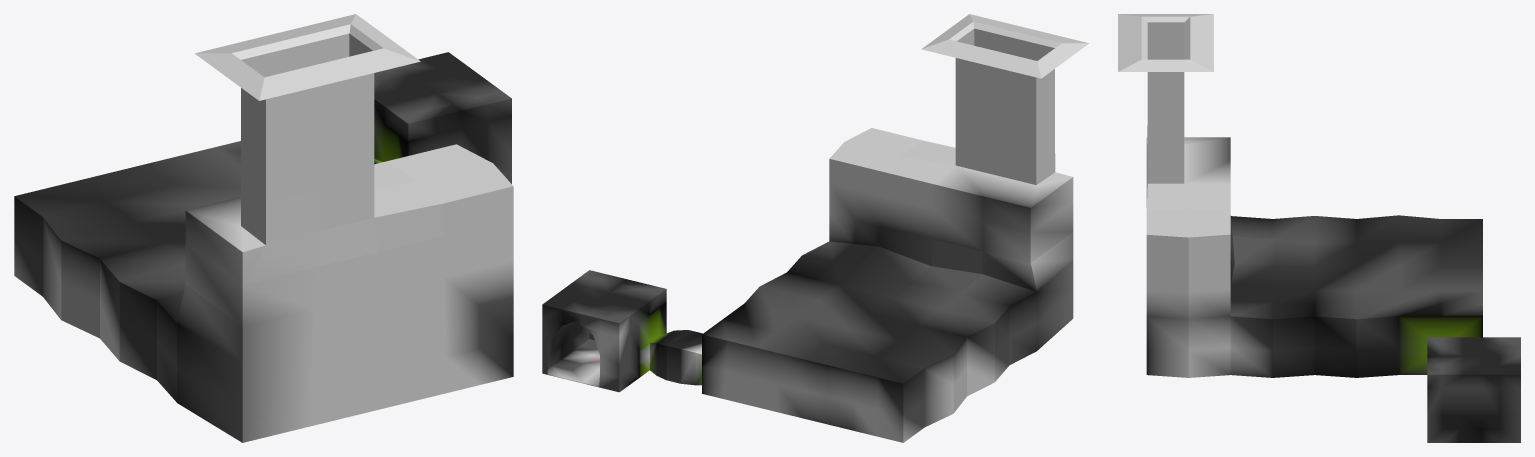
3 views of the same model, side by side, from view 1: azimuth 30°, elevation 25°; view 2: azimuth 150°, elevation 25°; view 3: azimuth 270°, elevation 25° (orthographic). The views are drawn at different scales.
Visible parts, largest first — view 1: Plane.002; view 2: Plane.002; view 3: Plane.002.
Part boxes in pixels (x1,y1,x2,y2): Plane.002: (14,14,513,442); Plane.002: (542,14,1088,442); Plane.002: (1118,14,1520,442).
Bounding box in the file's own units: 2761 × 2040 × 2781.
